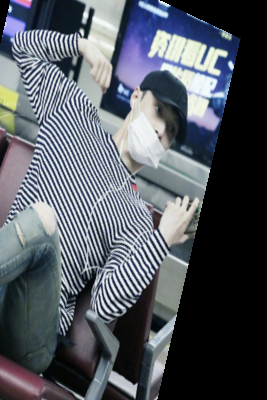mask_weared_incorrect: (116, 66, 196, 180)
